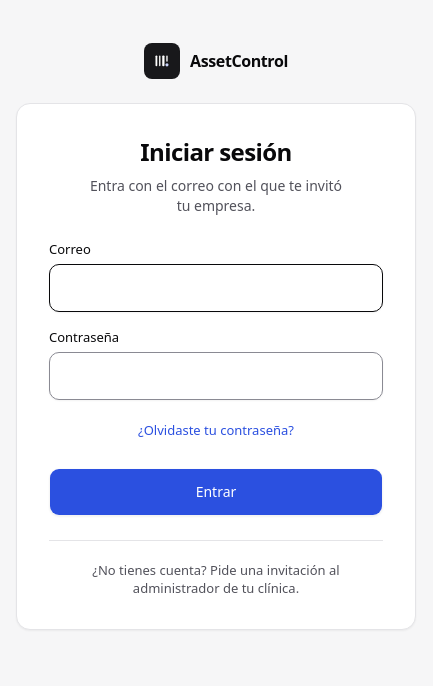
Test: /login › credenciales incorrectas muestran el mensaje del servidor
In the field labelled "Correo": [216, 288] box [49,264,383,312], type "ana.torres@ejemplo.test"
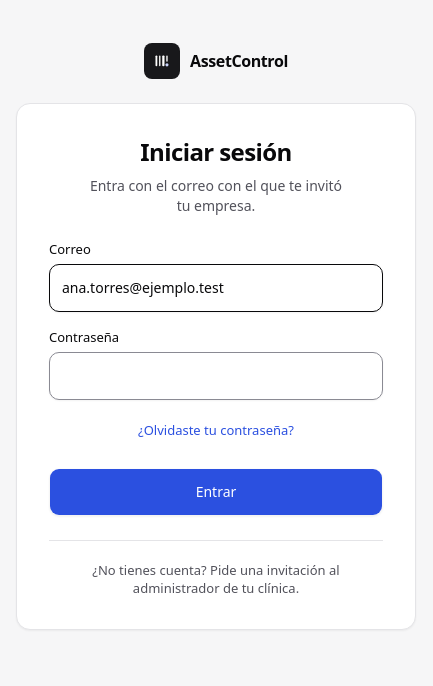
In the password field labelled "Contraseña": [216, 376] box [49,352,383,400], type "Clave-sintetica-1"
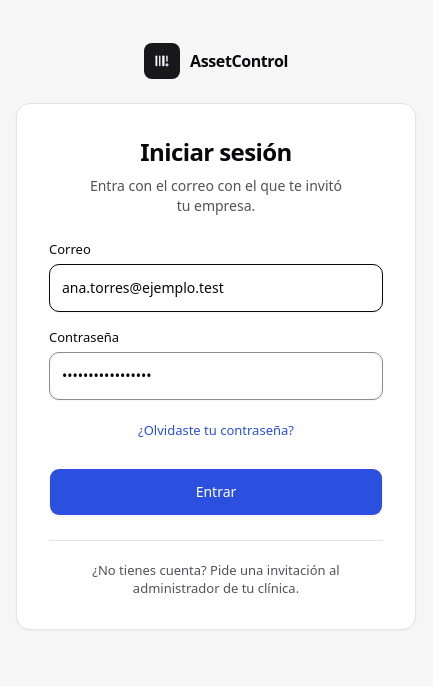
Click the button "Entrar": [216, 492] box [49,468,383,516]
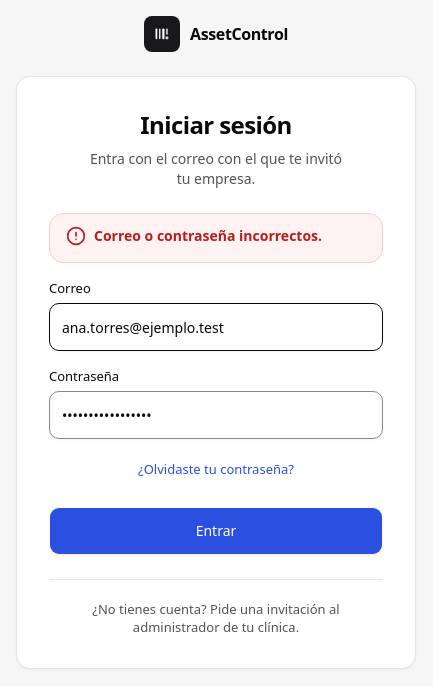
Check: the button "Entrar" is shown, box [49,507,383,555]
Check: the message reads "Correo o contraseña incorrectos.", box [94,226,322,245]
